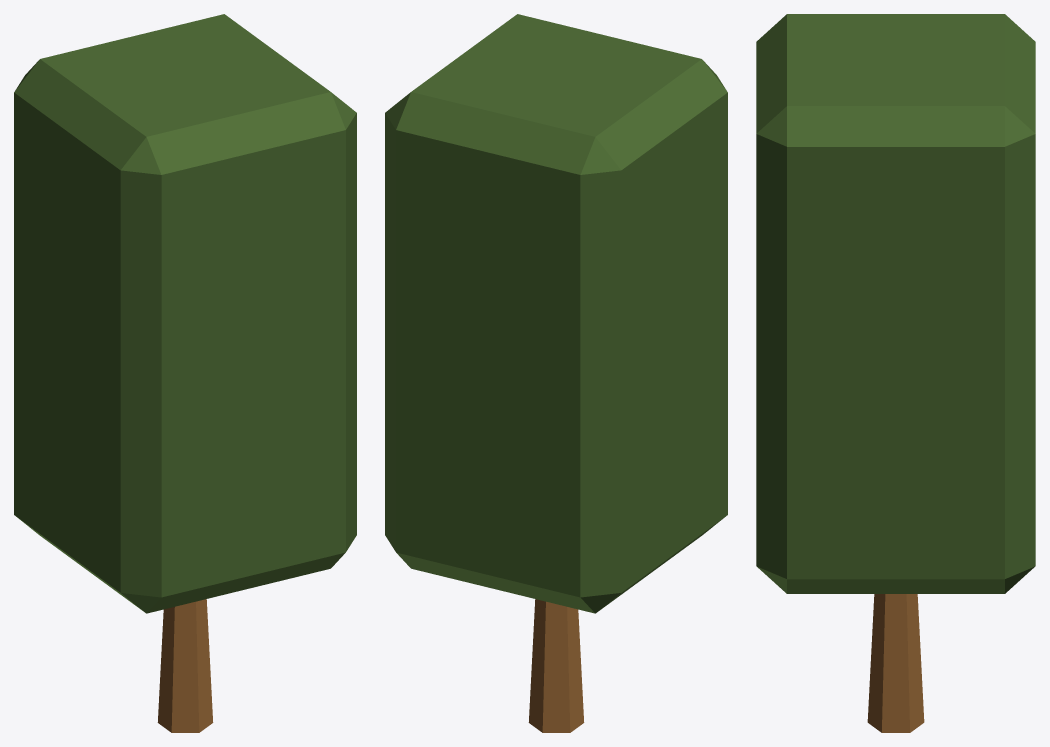
File: treeB.FBX
3 renders of one model, left to right at view 1: azimuth 30°, elevation 25°; view 2: azimuth 150°, elevation 25°; view 3: azimuth 270°, elevation 25°, orthographic. The views are drawn at different scales.
Parts seen in each view (by area): view 1: treeB; view 2: treeB; view 3: treeB.
Part boxes in pixels (left/top/right/bottom): treeB: left=14, top=14, right=356, bottom=732; treeB: left=385, top=14, right=727, bottom=732; treeB: left=756, top=14, right=1035, bottom=732.
Bounding box in the file's own units: 2.12 × 5.55 × 2.12.
